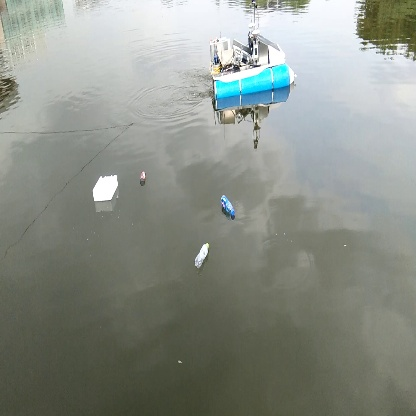bottle: (192, 240, 215, 270), (219, 193, 239, 222)
plastic-garbage: (86, 173, 124, 204)
